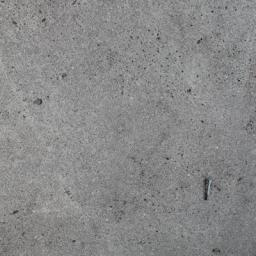FOD: (202, 175, 218, 206)
